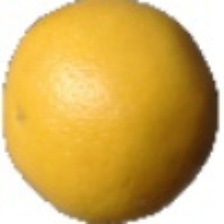grapes: (25, 18, 185, 170)
